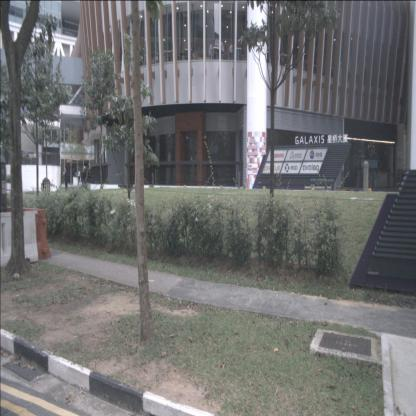human-pedestrian-adult: (384, 166, 392, 189), (228, 42, 236, 60), (63, 167, 68, 193), (218, 39, 224, 60), (209, 41, 215, 61), (77, 169, 81, 186)
movable_object-barrier: (4, 207, 52, 260), (0, 210, 40, 269)
